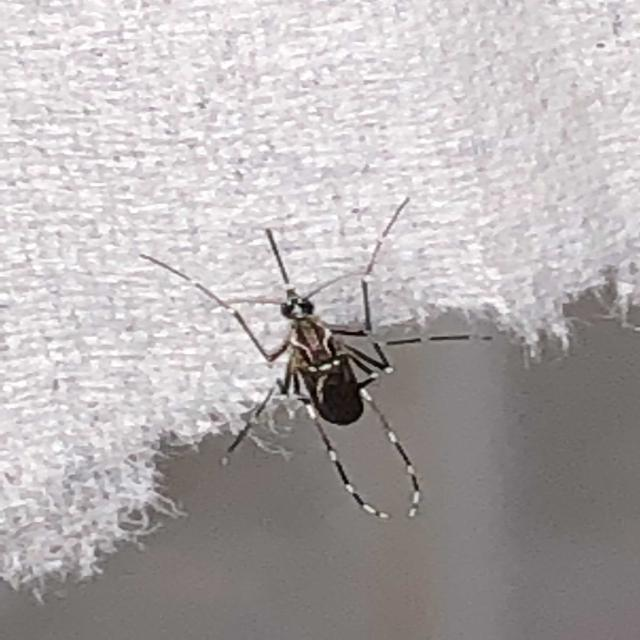aegypti: (135, 194, 528, 540)
